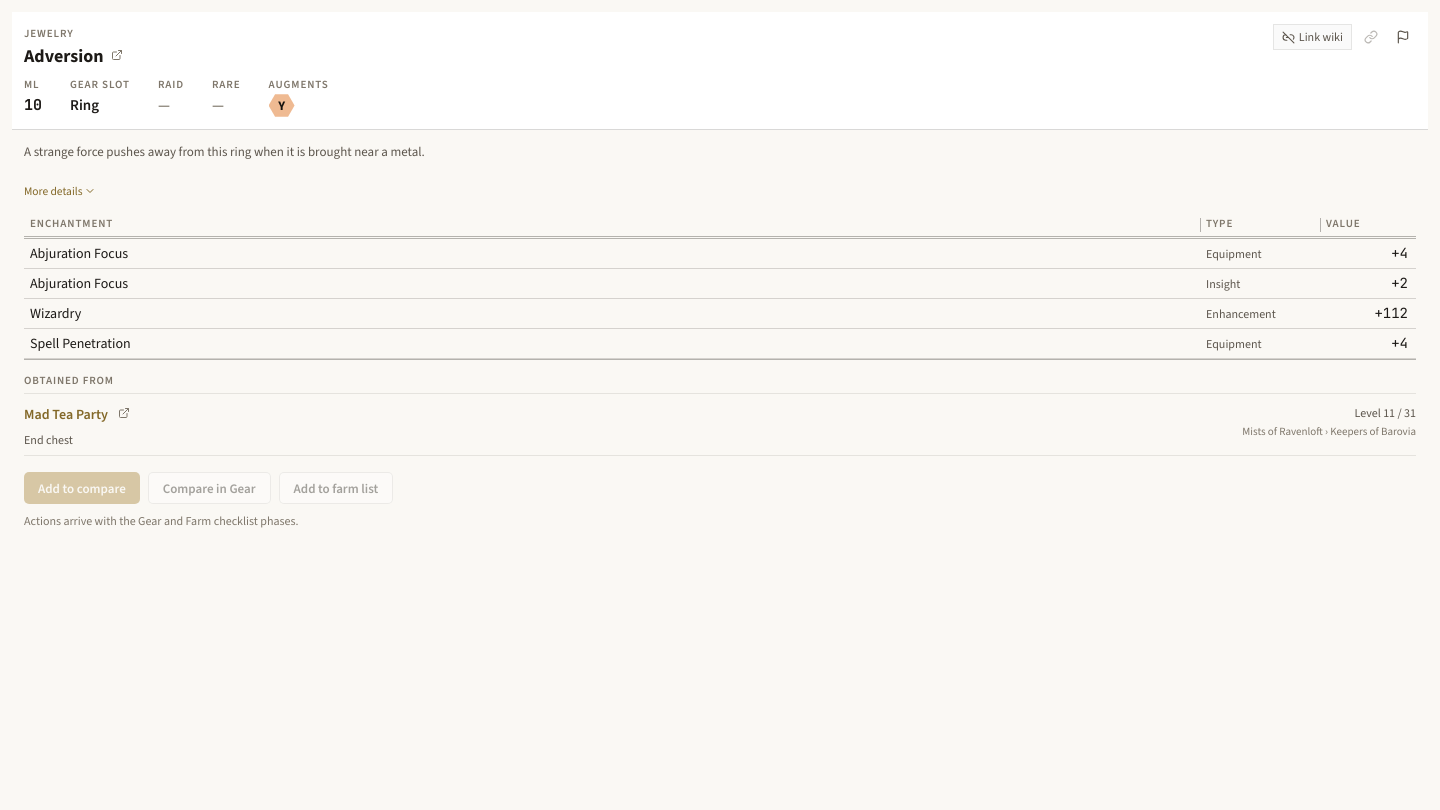
it: ItemDetailCard details › keeps every header fact in place when its socket opens and puts the ledger below the header
The width and height of the screenshot is (1440, 810).
What coordinates should you click on to do the following:
click the button named "Yellow slot"
I would click on:
 (282, 106)
Its box is [269,94,295,117].
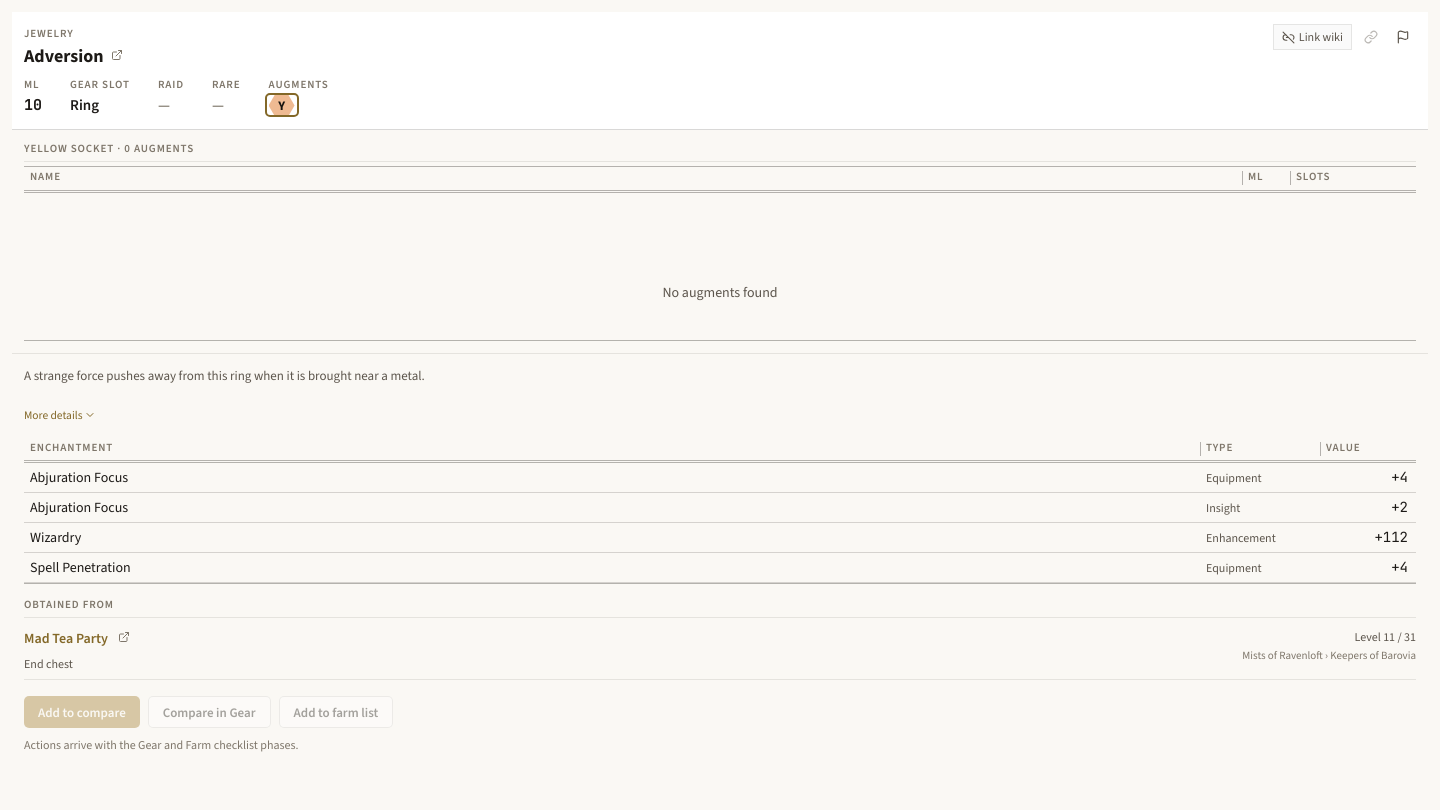
Expected: the element with class "resources-augment-candidates" is shown, [12,130,1428,354]
Expected: the heading "Yellow socket · 0 augments" is shown, [24,142,1416,162]
What coordinates should you click on to do the following:
click the button named "Yellow slot"
I would click on:
 (282, 106)
Its box is [269,94,295,117].
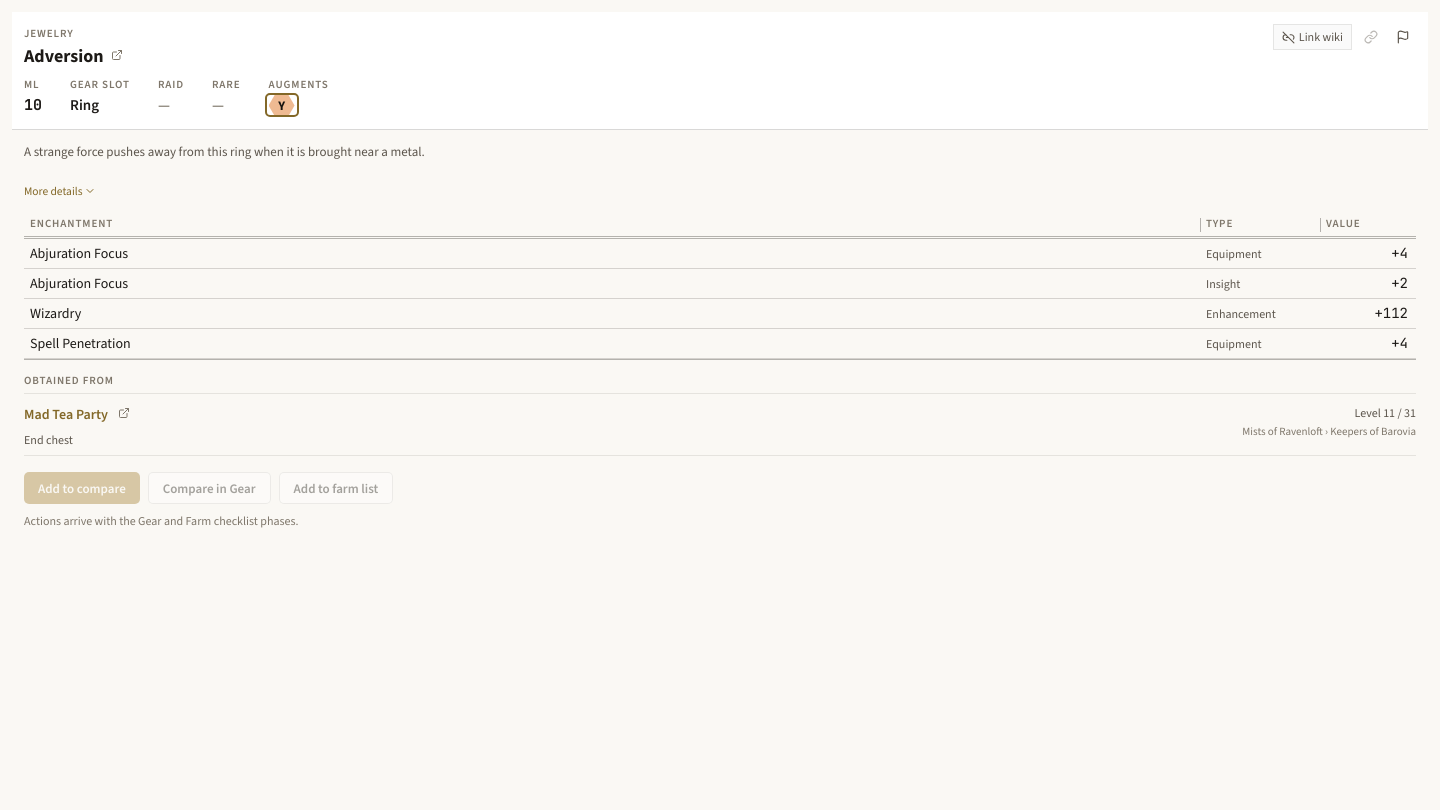
Expected: the element with class "resources-augment-candidates" is gone
